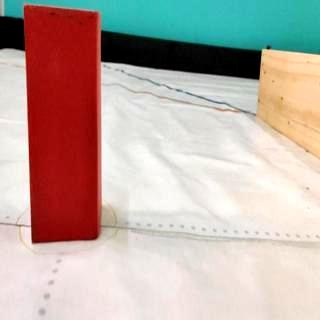redbox: (23, 3, 100, 245)
